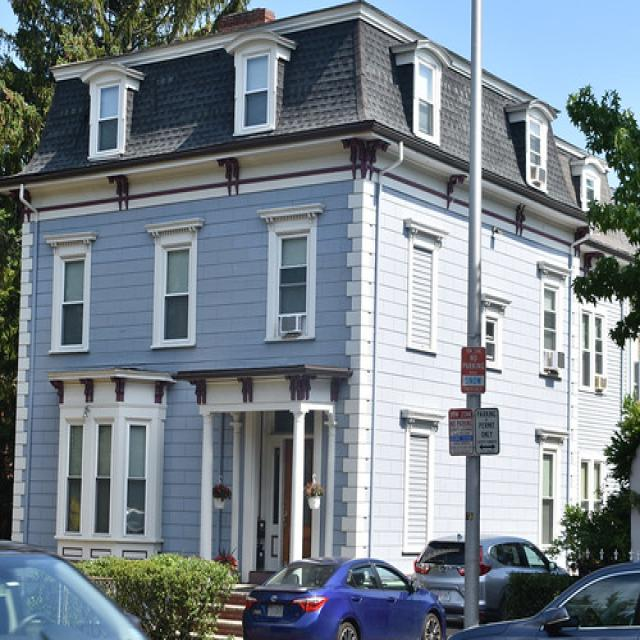building: (0, 0, 639, 603)
